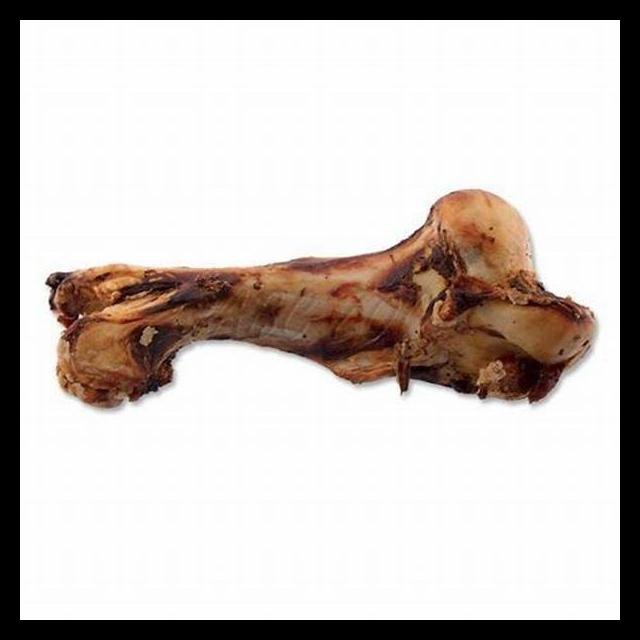food_waste: (35, 183, 606, 462)
